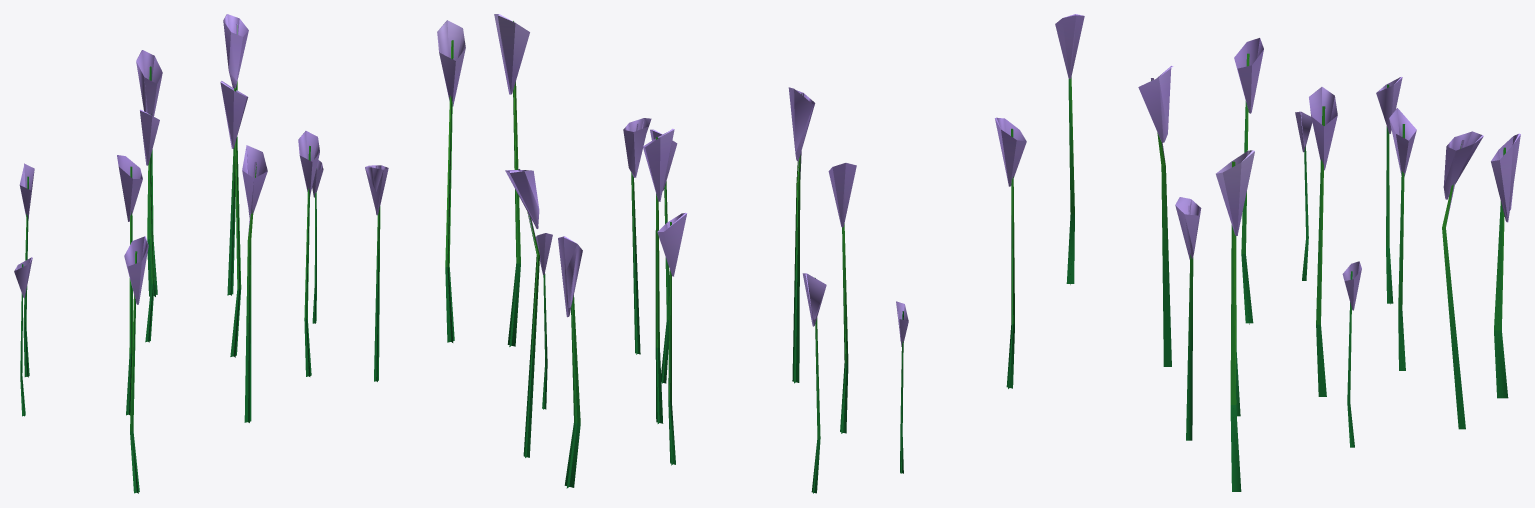
Rendered from flower_lavender_low.glb.
The picture shows the model from 3 angles, left to right: view 1: azimuth 30°, elevation 25°; view 2: azimuth 150°, elevation 25°; view 3: azimuth 270°, elevation 25°; orthographic projection. The views are drawn at different scales.
Visible parts, largest first — view 1: Flower 5_2_C; view 2: Flower 5_2_C; view 3: Flower 5_2_C.
Boxes of the visible parts, <box> form: Flower 5_2_C: <box>14,14,465,493</box>; Flower 5_2_C: <box>494,14,1026,493</box>; Flower 5_2_C: <box>1055,14,1520,491</box>.
Bounding box in the file's own units: 0.5006 × 0.36 × 0.4419.
Materials: 1 (1 with a texture image).
